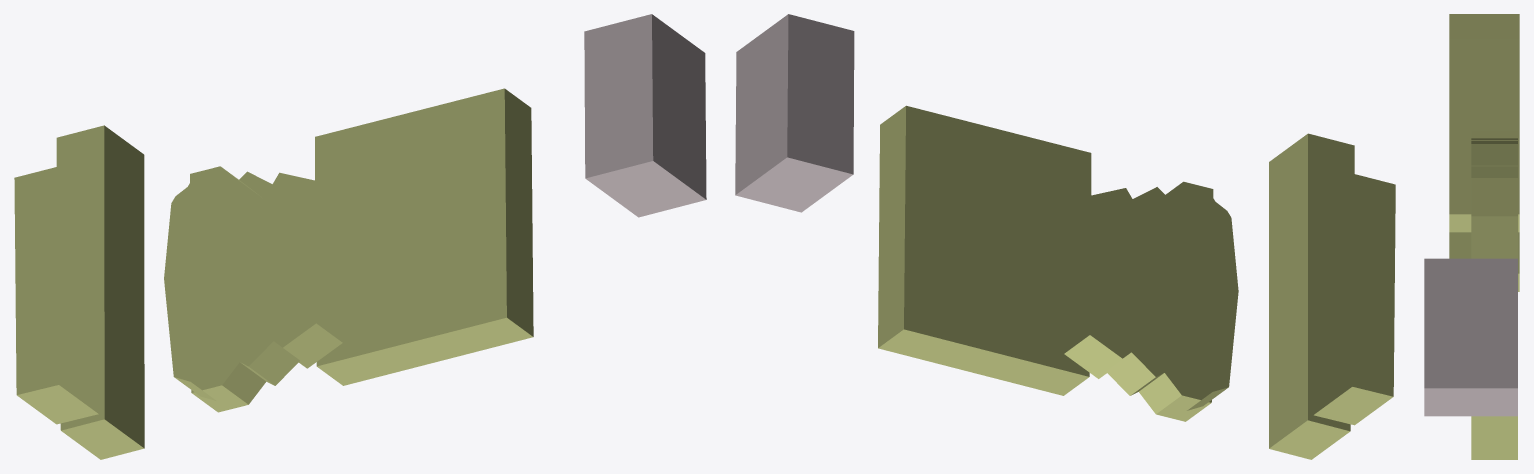
3 renders of one model, left to right at view 1: azimuth 30°, elevation 25°; view 2: azimuth 150°, elevation 25°; view 3: azimuth 270°, elevation 25°, orthographic. The views are drawn at different scales.
Visible parts, largest first — view 1: 0_0_2_0_0_1_0_2; view 2: 0_0_2_0_0_1_0_2; view 3: 0_0_2_0_0_1_0_2.
Part boxes in pixels (x1,y1,x2,y2): 0_0_2_0_0_1_0_2: (14,14,706,459); 0_0_2_0_0_1_0_2: (735,14,1395,459); 0_0_2_0_0_1_0_2: (1424,14,1519,459).
Bounding box in the file's own units: 82.9 × 36.6 × 12.2.
